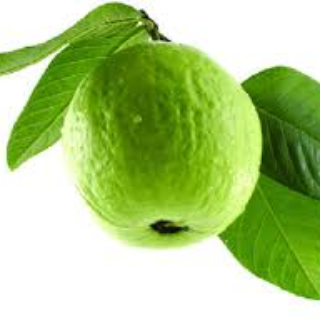oi: (64, 36, 261, 258)
